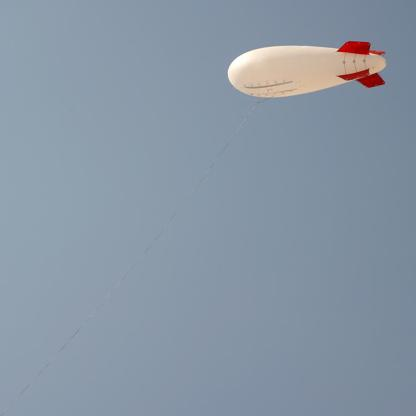Airship: (224, 39, 389, 106)
